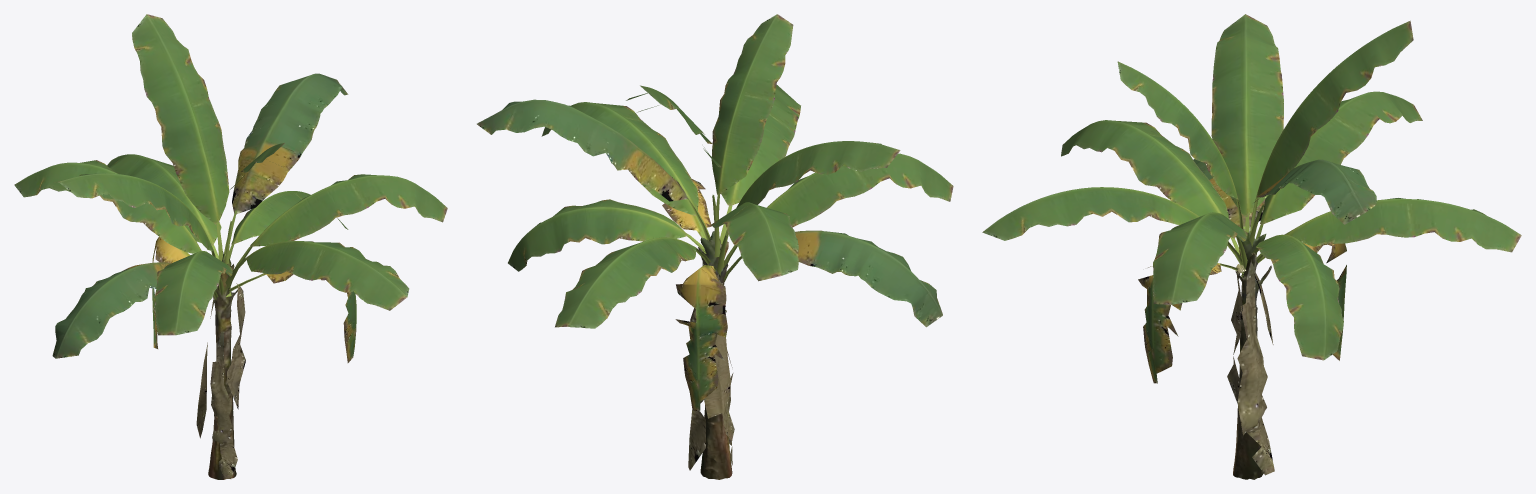
File: SM_pal_b00_tree_RainforestBananaTreeM_01_416c8a.glb
3 renders of one model, left to right at view 1: azimuth 30°, elevation 25°; view 2: azimuth 150°, elevation 25°; view 3: azimuth 270°, elevation 25°, orthographic. The views are drawn at different scales.
Bounding box in the file's own units: 5.22 × 5.39 × 5.84.
Materials: 2 (2 with a texture image).
